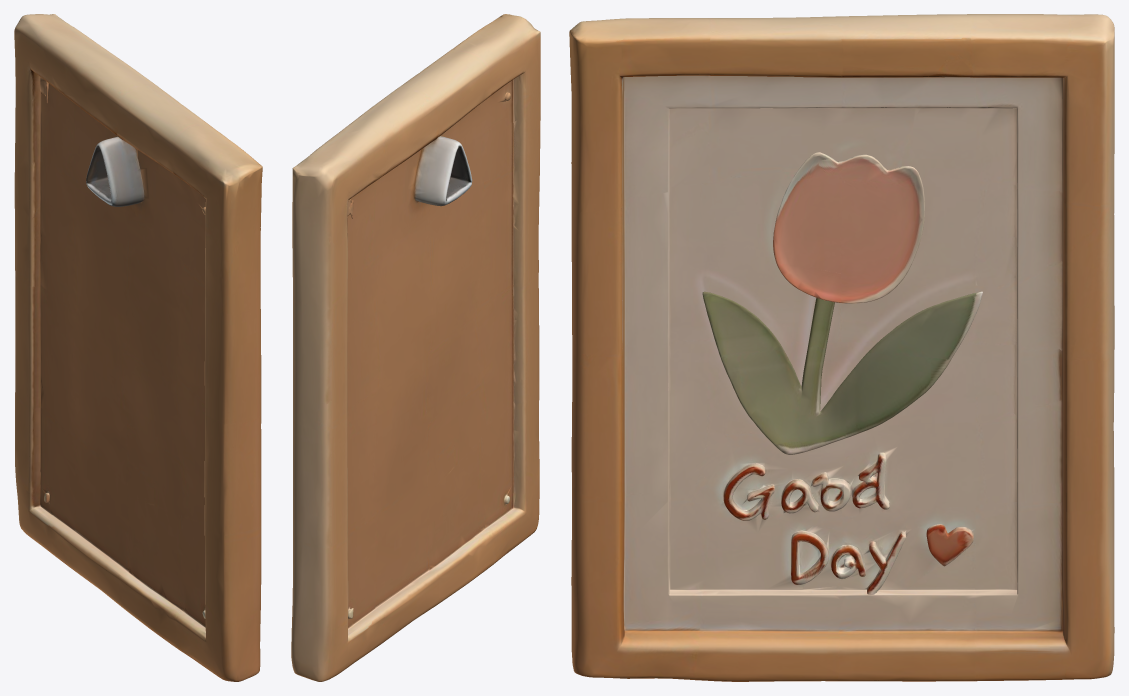
The model's file is frame1-93a298539c39.glb.
3 views of the same model, side by side, from view 1: azimuth 30°, elevation 25°; view 2: azimuth 150°, elevation 25°; view 3: azimuth 270°, elevation 25° (orthographic). The views are drawn at different scales.
Parts seen in each view (by area): view 1: tripo_node_0699ee74-b261-4636-b1bd-f6ab72f7fa56; view 2: tripo_node_0699ee74-b261-4636-b1bd-f6ab72f7fa56; view 3: tripo_node_0699ee74-b261-4636-b1bd-f6ab72f7fa56.
Part boxes in pixels (box(x1,y1,x2,y2)): tripo_node_0699ee74-b261-4636-b1bd-f6ab72f7fa56: box(14, 14, 262, 681); tripo_node_0699ee74-b261-4636-b1bd-f6ab72f7fa56: box(291, 14, 540, 681); tripo_node_0699ee74-b261-4636-b1bd-f6ab72f7fa56: box(569, 14, 1114, 681).
Bounding box in the file's own units: 0.1304 × 0.9998 × 0.7548.
1 material, 1 textured.
